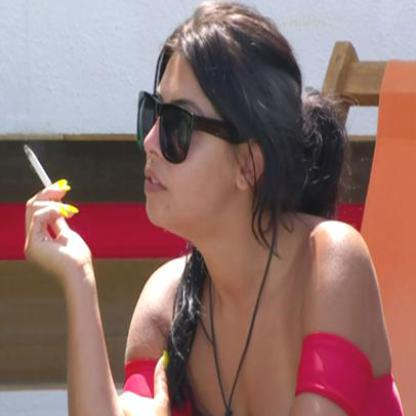cigarette: (23, 146, 52, 188)
person: (108, 0, 402, 415)
